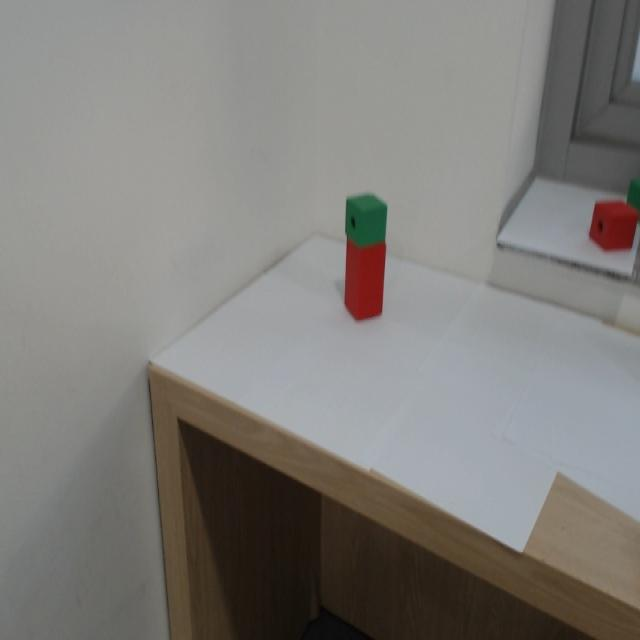cube: (340, 181, 401, 243)
